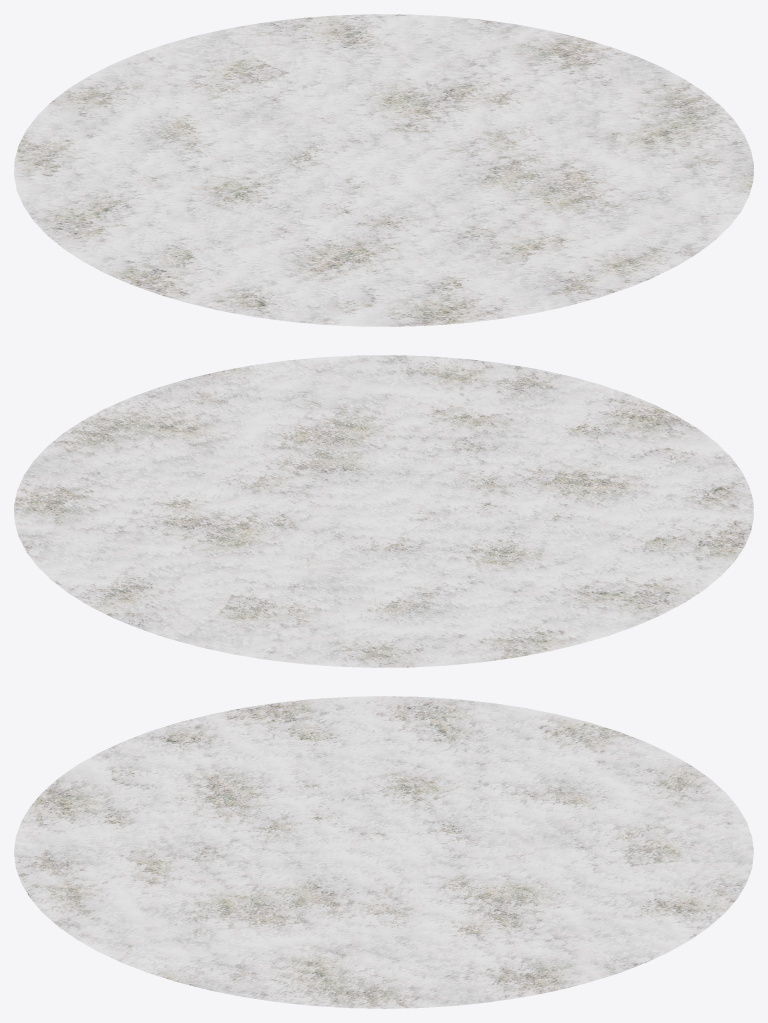
File: winter_floor.glb
3 renders of one model, top to bottom at view 1: azimuth 30°, elevation 25°; view 2: azimuth 150°, elevation 25°; view 3: azimuth 270°, elevation 25°, orthographic.
Visible parts, largest first — view 1: Winter.001; view 2: Winter.001; view 3: Winter.001.
Boxes of the visible parts, x1,y1,x2,y2 form: Winter.001: [14, 14, 753, 326]; Winter.001: [14, 355, 753, 667]; Winter.001: [14, 696, 753, 1008].
Bounding box in the file's own units: 280 × 0 × 280.
1 material, 1 textured.
